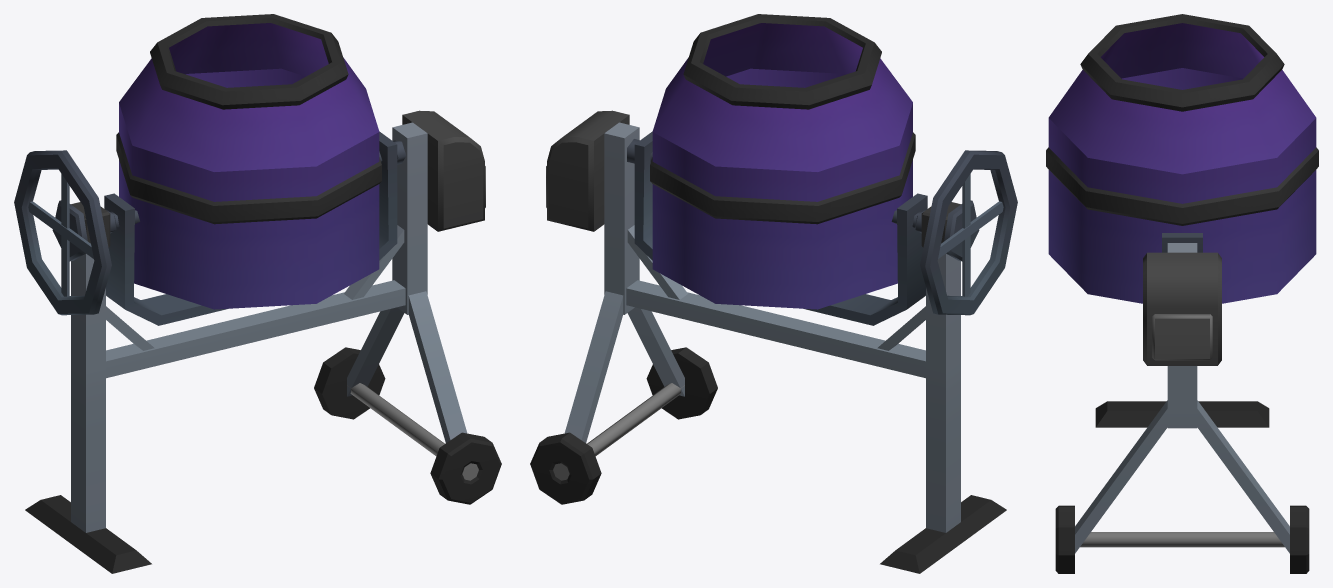
Rendered from CementMixer_D.fbx.
3 renders of one model, left to right at view 1: azimuth 30°, elevation 25°; view 2: azimuth 150°, elevation 25°; view 3: azimuth 270°, elevation 25°, orthographic.
Visible parts, largest first — view 1: Top4, CementMixer; view 2: Top4, CementMixer; view 3: Top4, CementMixer.
Boxes of the visible parts, <box> form: Top4: <box>14,14,406,325</box>; CementMixer: <box>25,110,501,573</box>; Top4: <box>627,14,1017,325</box>; CementMixer: <box>530,110,1006,573</box>; Top4: <box>1046,14,1318,303</box>; CementMixer: <box>1055,243,1309,573</box>.
Bounding box in the file's own units: 66.75 × 68.54 × 38.37.
